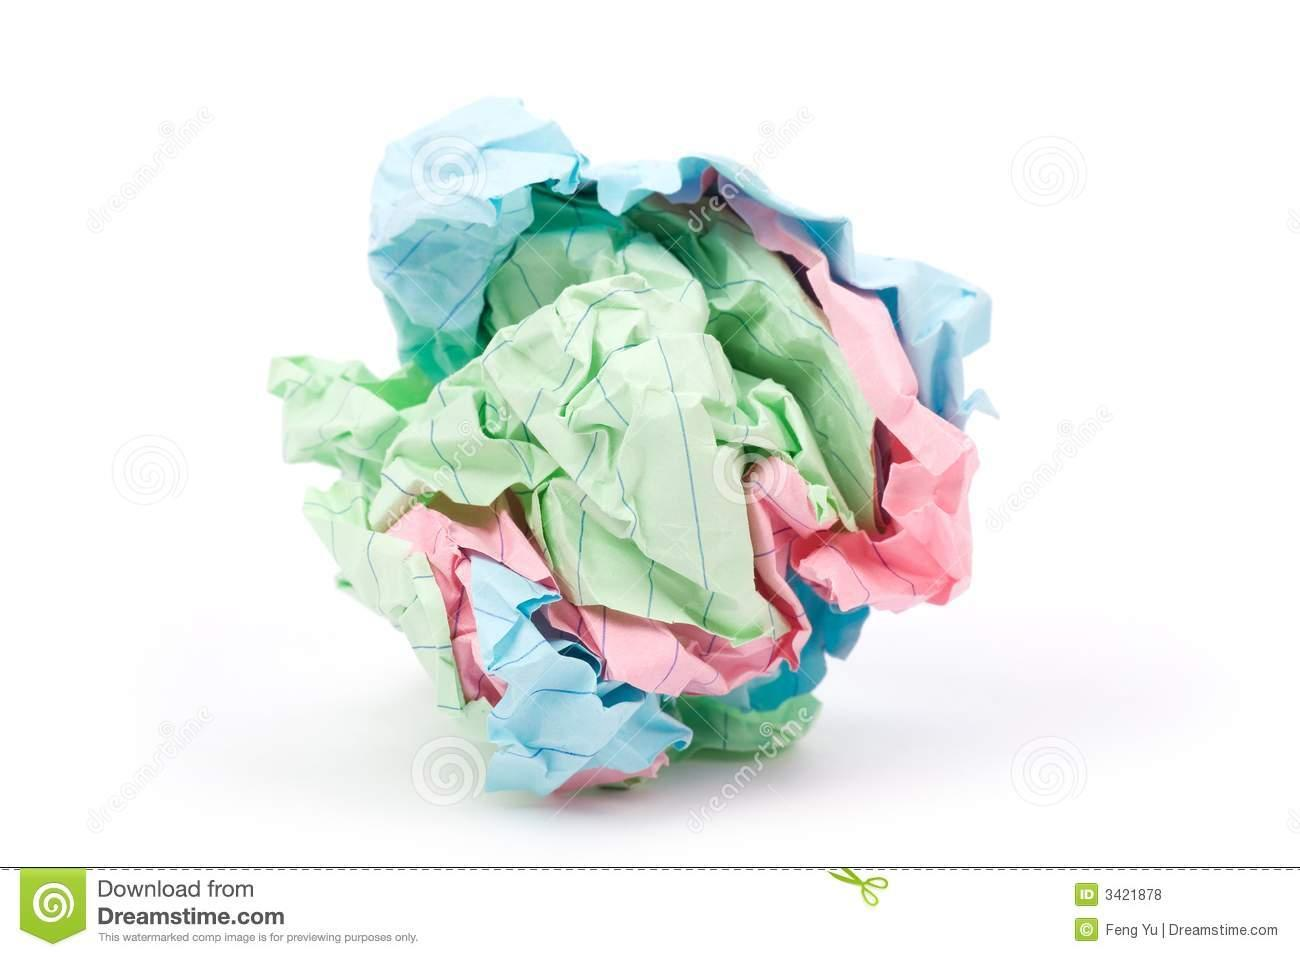Paper: (268, 93, 986, 802)
